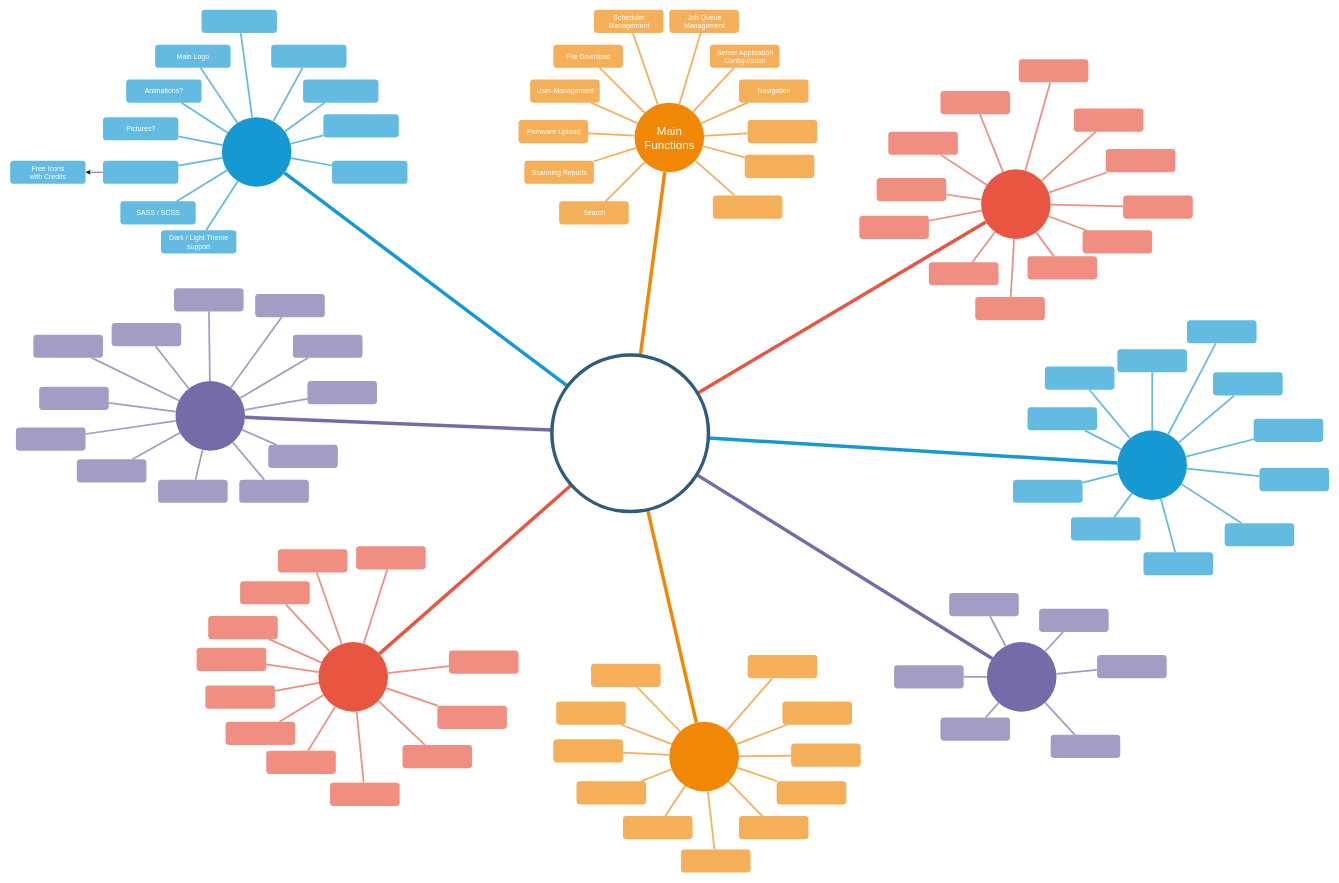
The diagram is 1339 pixels wide and 883 high, and some of its shapes have lost their labels. The shapes that lost their labels are listed below. From the top down, each one's centre as x and y in pixels, then its label:
[256,151]: Design
[140,172]: Icons?
[630,433]: FirmwareDroid Client
